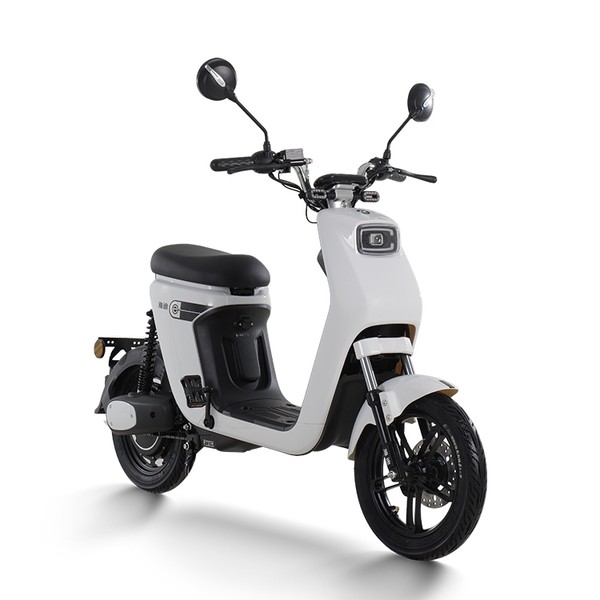MNV: (97, 59, 489, 560)
